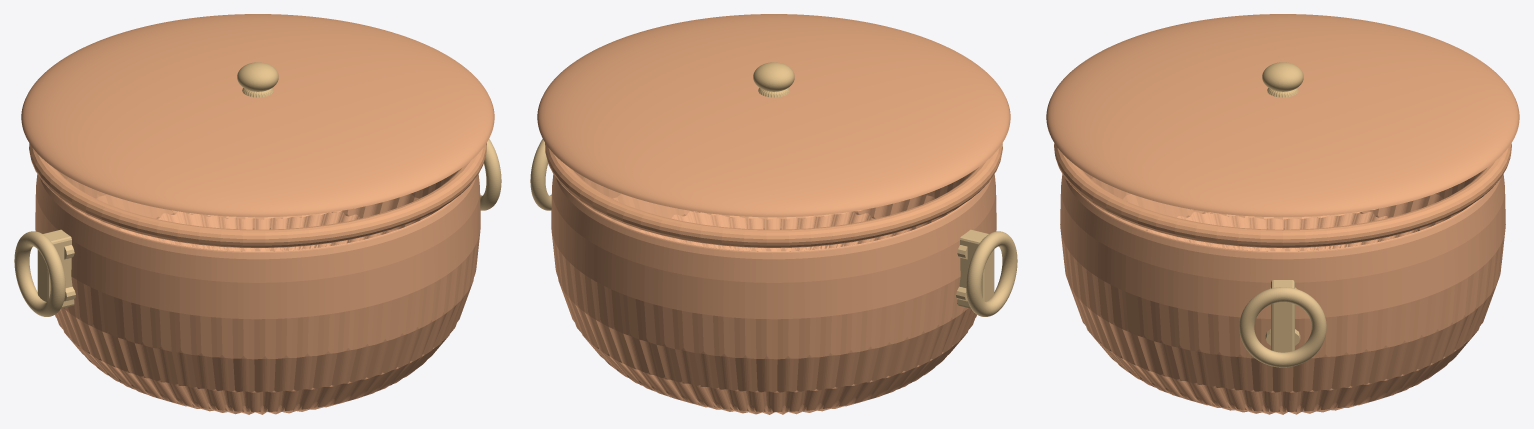
The picture shows the model from 3 angles, left to right: view 1: azimuth 30°, elevation 25°; view 2: azimuth 150°, elevation 25°; view 3: azimuth 270°, elevation 25°; orthographic projection.
Visible parts, largest first — view 1: Pot_Lid, Pot_Body, Pot_Rim, Pot_Handle_2, Pot_Handle_Connector_2, Lid_Knob_Top, Pot_Handle_1; view 2: Pot_Lid, Pot_Body, Pot_Rim, Pot_Handle_2, Pot_Handle_Connector_2, Lid_Knob_Top, Pot_Handle_1; view 3: Pot_Lid, Pot_Body, Pot_Rim, Pot_Handle_1, Pot_Handle_Connector_1, Lid_Knob_Top.
Part boxes in pixels (left/top/right/bottom): Pot_Lid: left=21, top=14, right=494, bottom=217; Pot_Body: left=35, top=170, right=480, bottom=414; Pot_Rim: left=29, top=143, right=486, bottom=247; Pot_Handle_2: left=14, top=231, right=65, bottom=316; Pot_Handle_Connector_2: left=37, top=229, right=74, bottom=308; Lid_Knob_Top: left=237, top=62, right=278, bottom=91; Pot_Handle_1: left=480, top=139, right=501, bottom=210; Pot_Lid: left=537, top=14, right=1010, bottom=217; Pot_Body: left=551, top=170, right=996, bottom=414; Pot_Rim: left=545, top=143, right=1002, bottom=247; Pot_Handle_2: left=966, top=231, right=1017, bottom=316; Pot_Handle_Connector_2: left=957, top=229, right=994, bottom=308; Lid_Knob_Top: left=753, top=62, right=794, bottom=91; Pot_Handle_1: left=530, top=139, right=551, bottom=210; Pot_Lid: left=1046, top=14, right=1519, bottom=217; Pot_Body: left=1060, top=171, right=1505, bottom=414; Pot_Rim: left=1054, top=143, right=1511, bottom=248; Pot_Handle_1: left=1239, top=287, right=1326, bottom=367; Pot_Handle_Connector_1: left=1271, top=280, right=1294, bottom=352; Lid_Knob_Top: left=1262, top=62, right=1303, bottom=91.
Size of the model in its own units: 0.7829 by 0.5358 by 0.7149.
